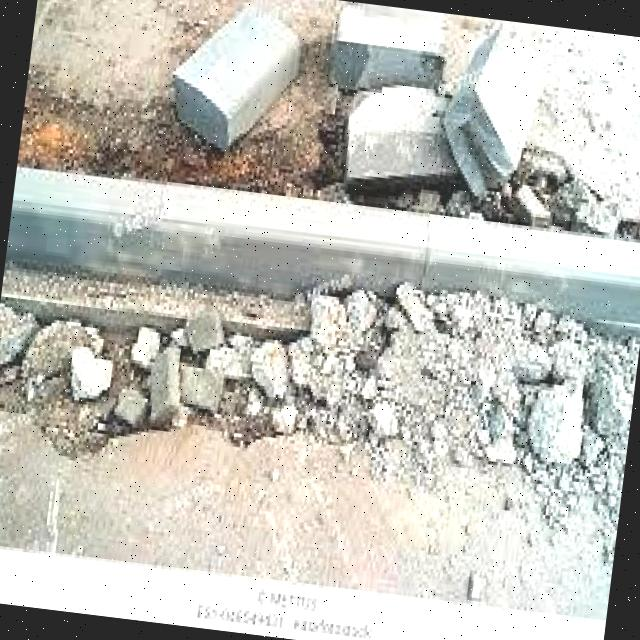curb: (18, 168, 433, 291), (421, 216, 640, 328)
